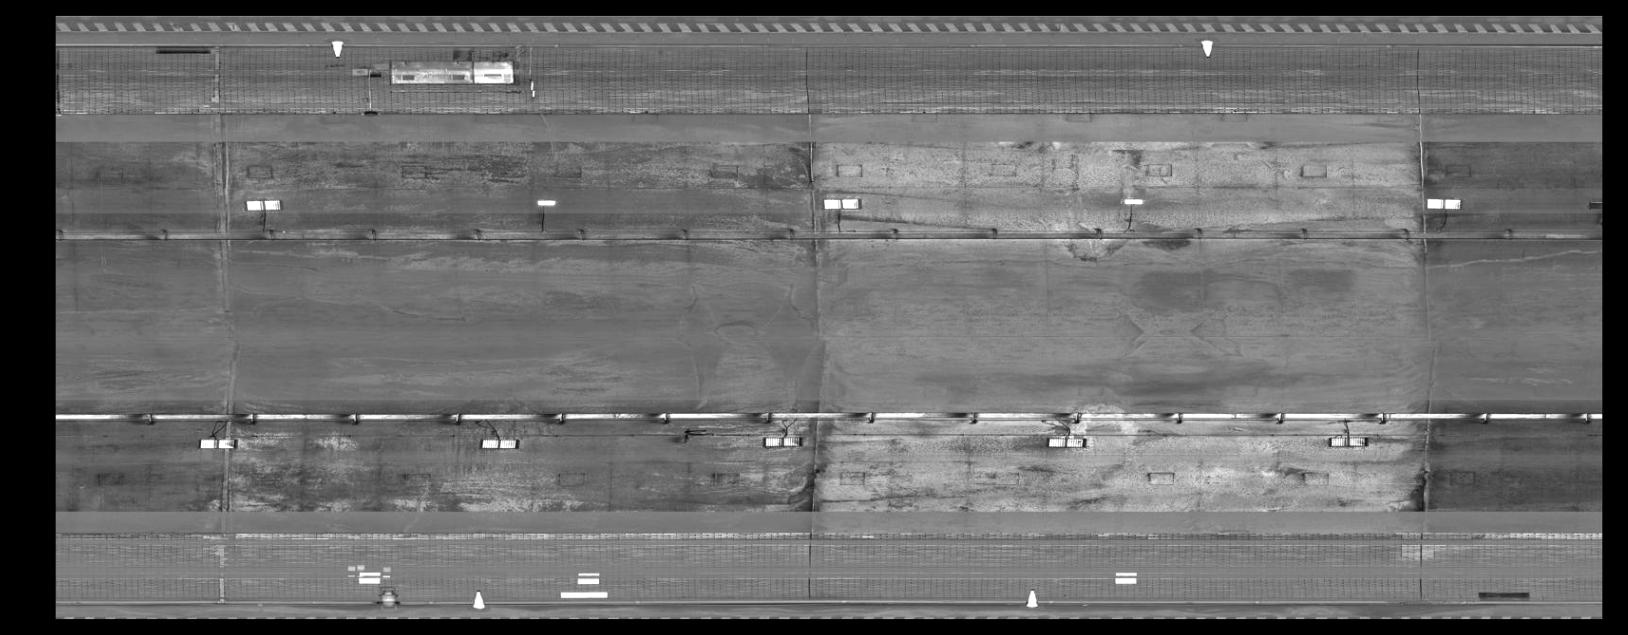light: (474, 435, 524, 453), (1324, 432, 1373, 450), (1044, 434, 1093, 452), (759, 432, 808, 450), (195, 435, 240, 451), (241, 197, 287, 213), (1424, 194, 1467, 210), (820, 195, 863, 211), (1117, 197, 1148, 206), (530, 198, 561, 208)
